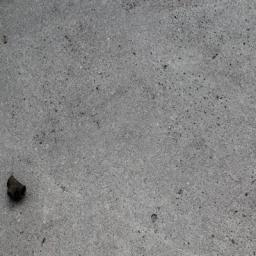FOD: (6, 173, 32, 205)
